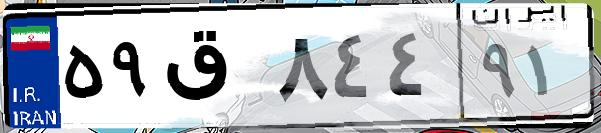1: (525, 38, 570, 115)
4: (385, 28, 445, 110), (330, 28, 385, 110)
5: (57, 26, 110, 100)
8: (270, 28, 330, 110)
9: (475, 38, 525, 113), (110, 28, 158, 98)
ق: (158, 20, 270, 120)
